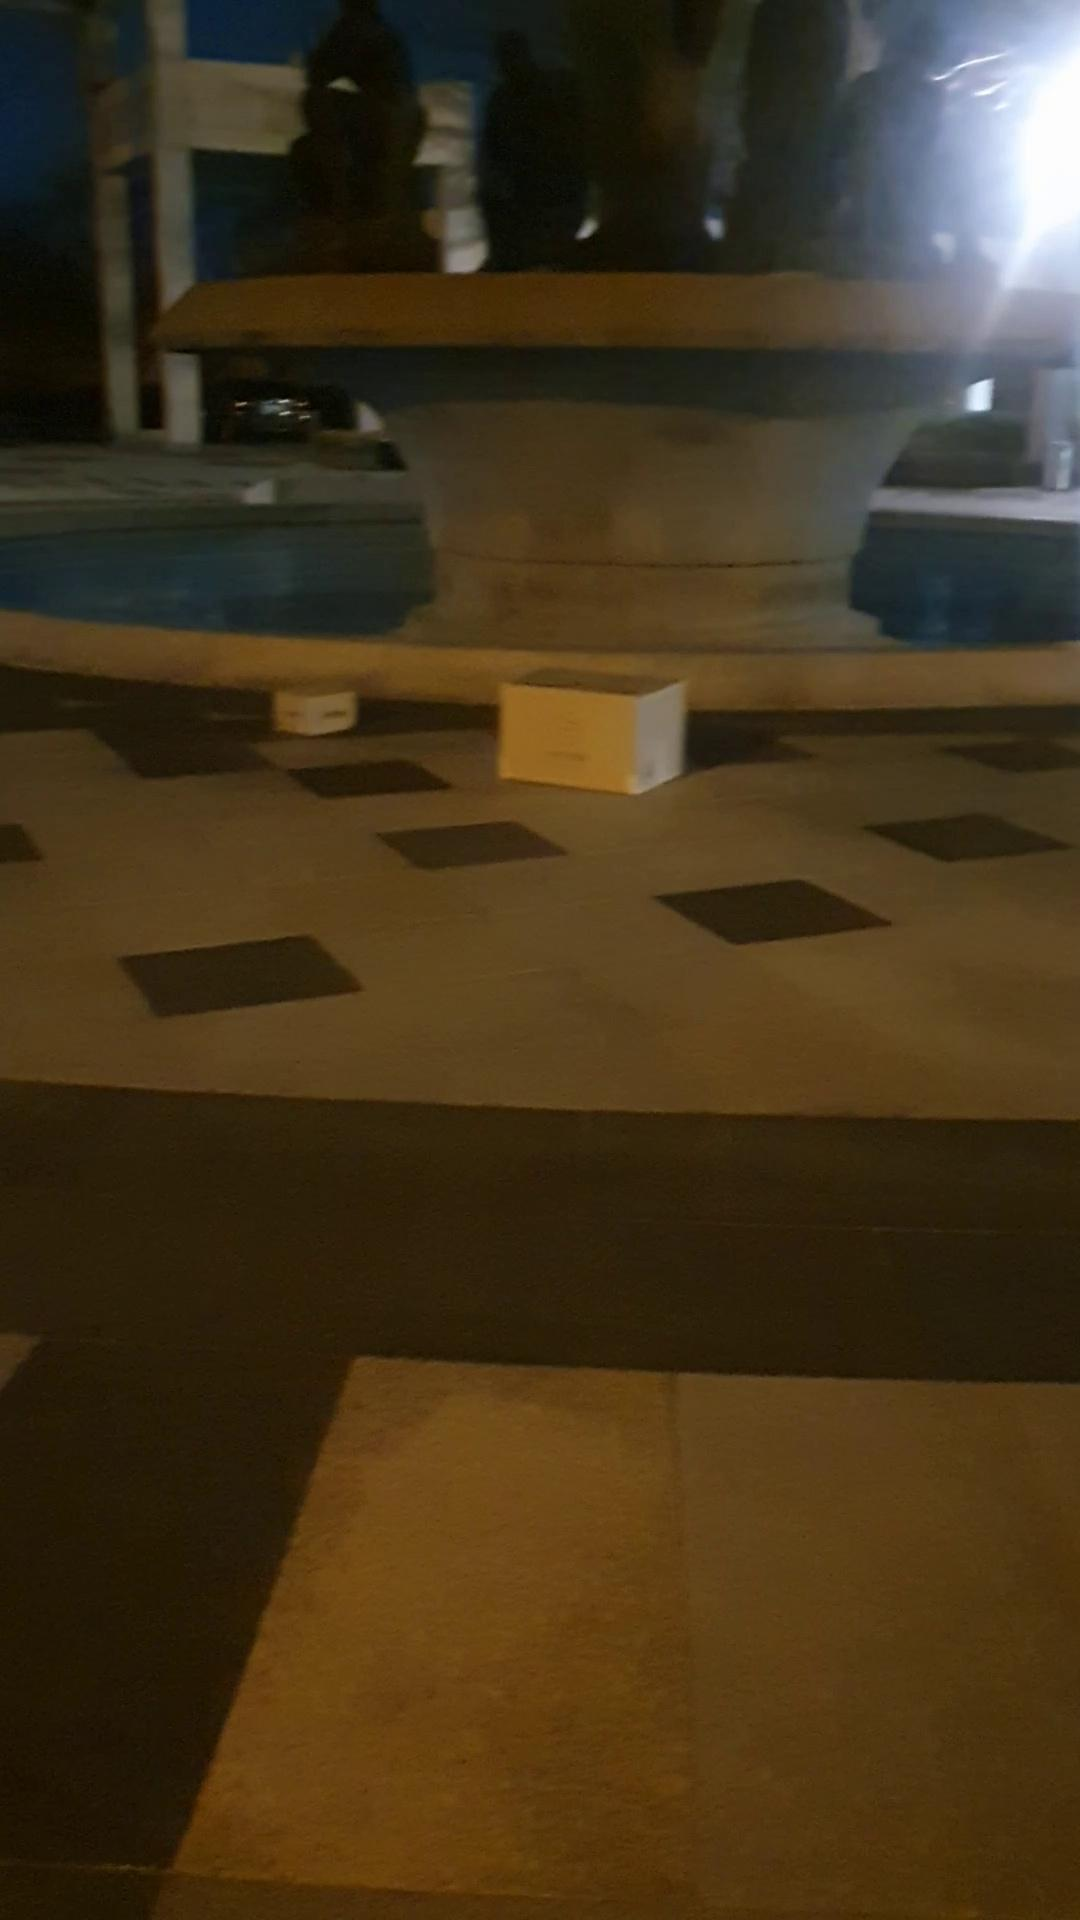Box: (491, 655, 695, 795), (273, 675, 372, 742)
